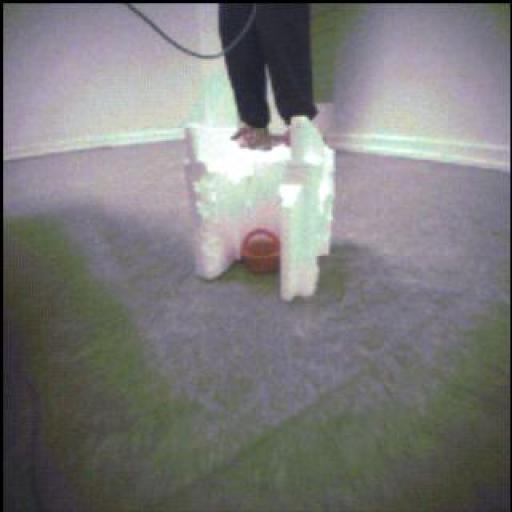Bucket: (242, 227, 284, 281)
